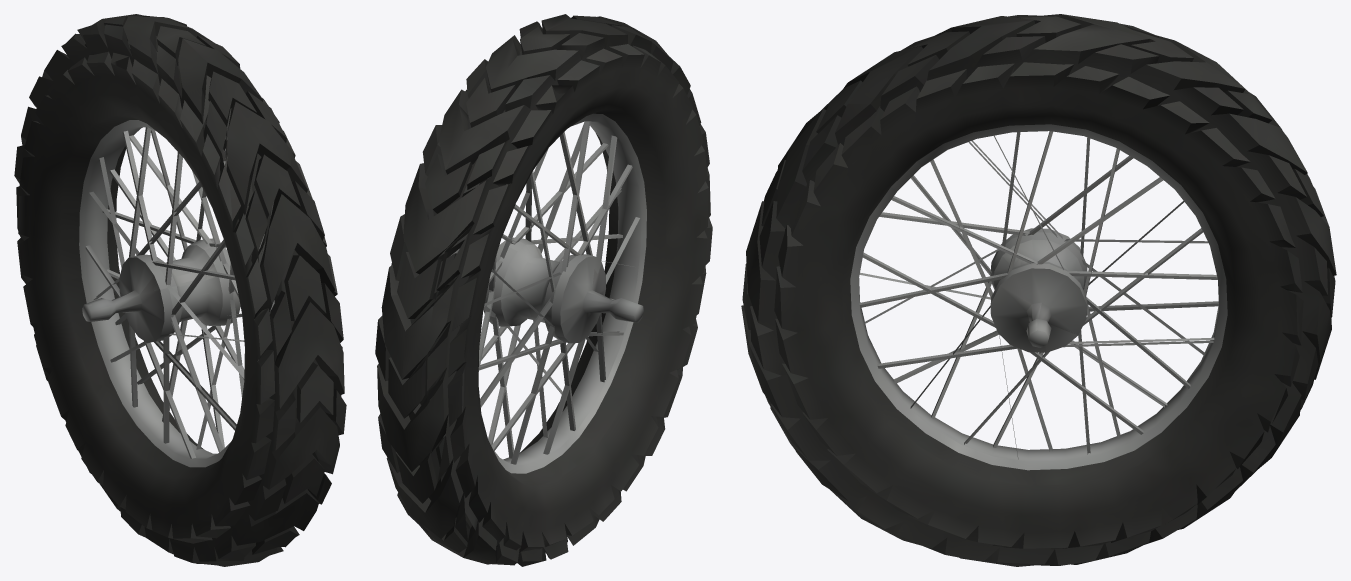
File: AKT_TT200_Matte_Wheels.fbx
3 renders of one model, left to right at view 1: azimuth 30°, elevation 25°; view 2: azimuth 150°, elevation 25°; view 3: azimuth 270°, elevation 25°, orthographic. The views are drawn at different scales.
Visible parts, largest first — view 1: akt_wheel_rear, akt_wheel_front; view 2: akt_wheel_rear, akt_wheel_front; view 3: akt_wheel_rear, akt_wheel_front.
Boxes of the visible parts, x1,y1,x2,y2 form: akt_wheel_rear: (18, 41, 342, 543); akt_wheel_front: (14, 14, 346, 566); akt_wheel_rear: (391, 44, 708, 553); akt_wheel_front: (375, 14, 712, 566); akt_wheel_rear: (774, 62, 1303, 549); akt_wheel_front: (741, 14, 1336, 566).
Bounding box in the file's own units: 2.6 × 6.74 × 6.72.
